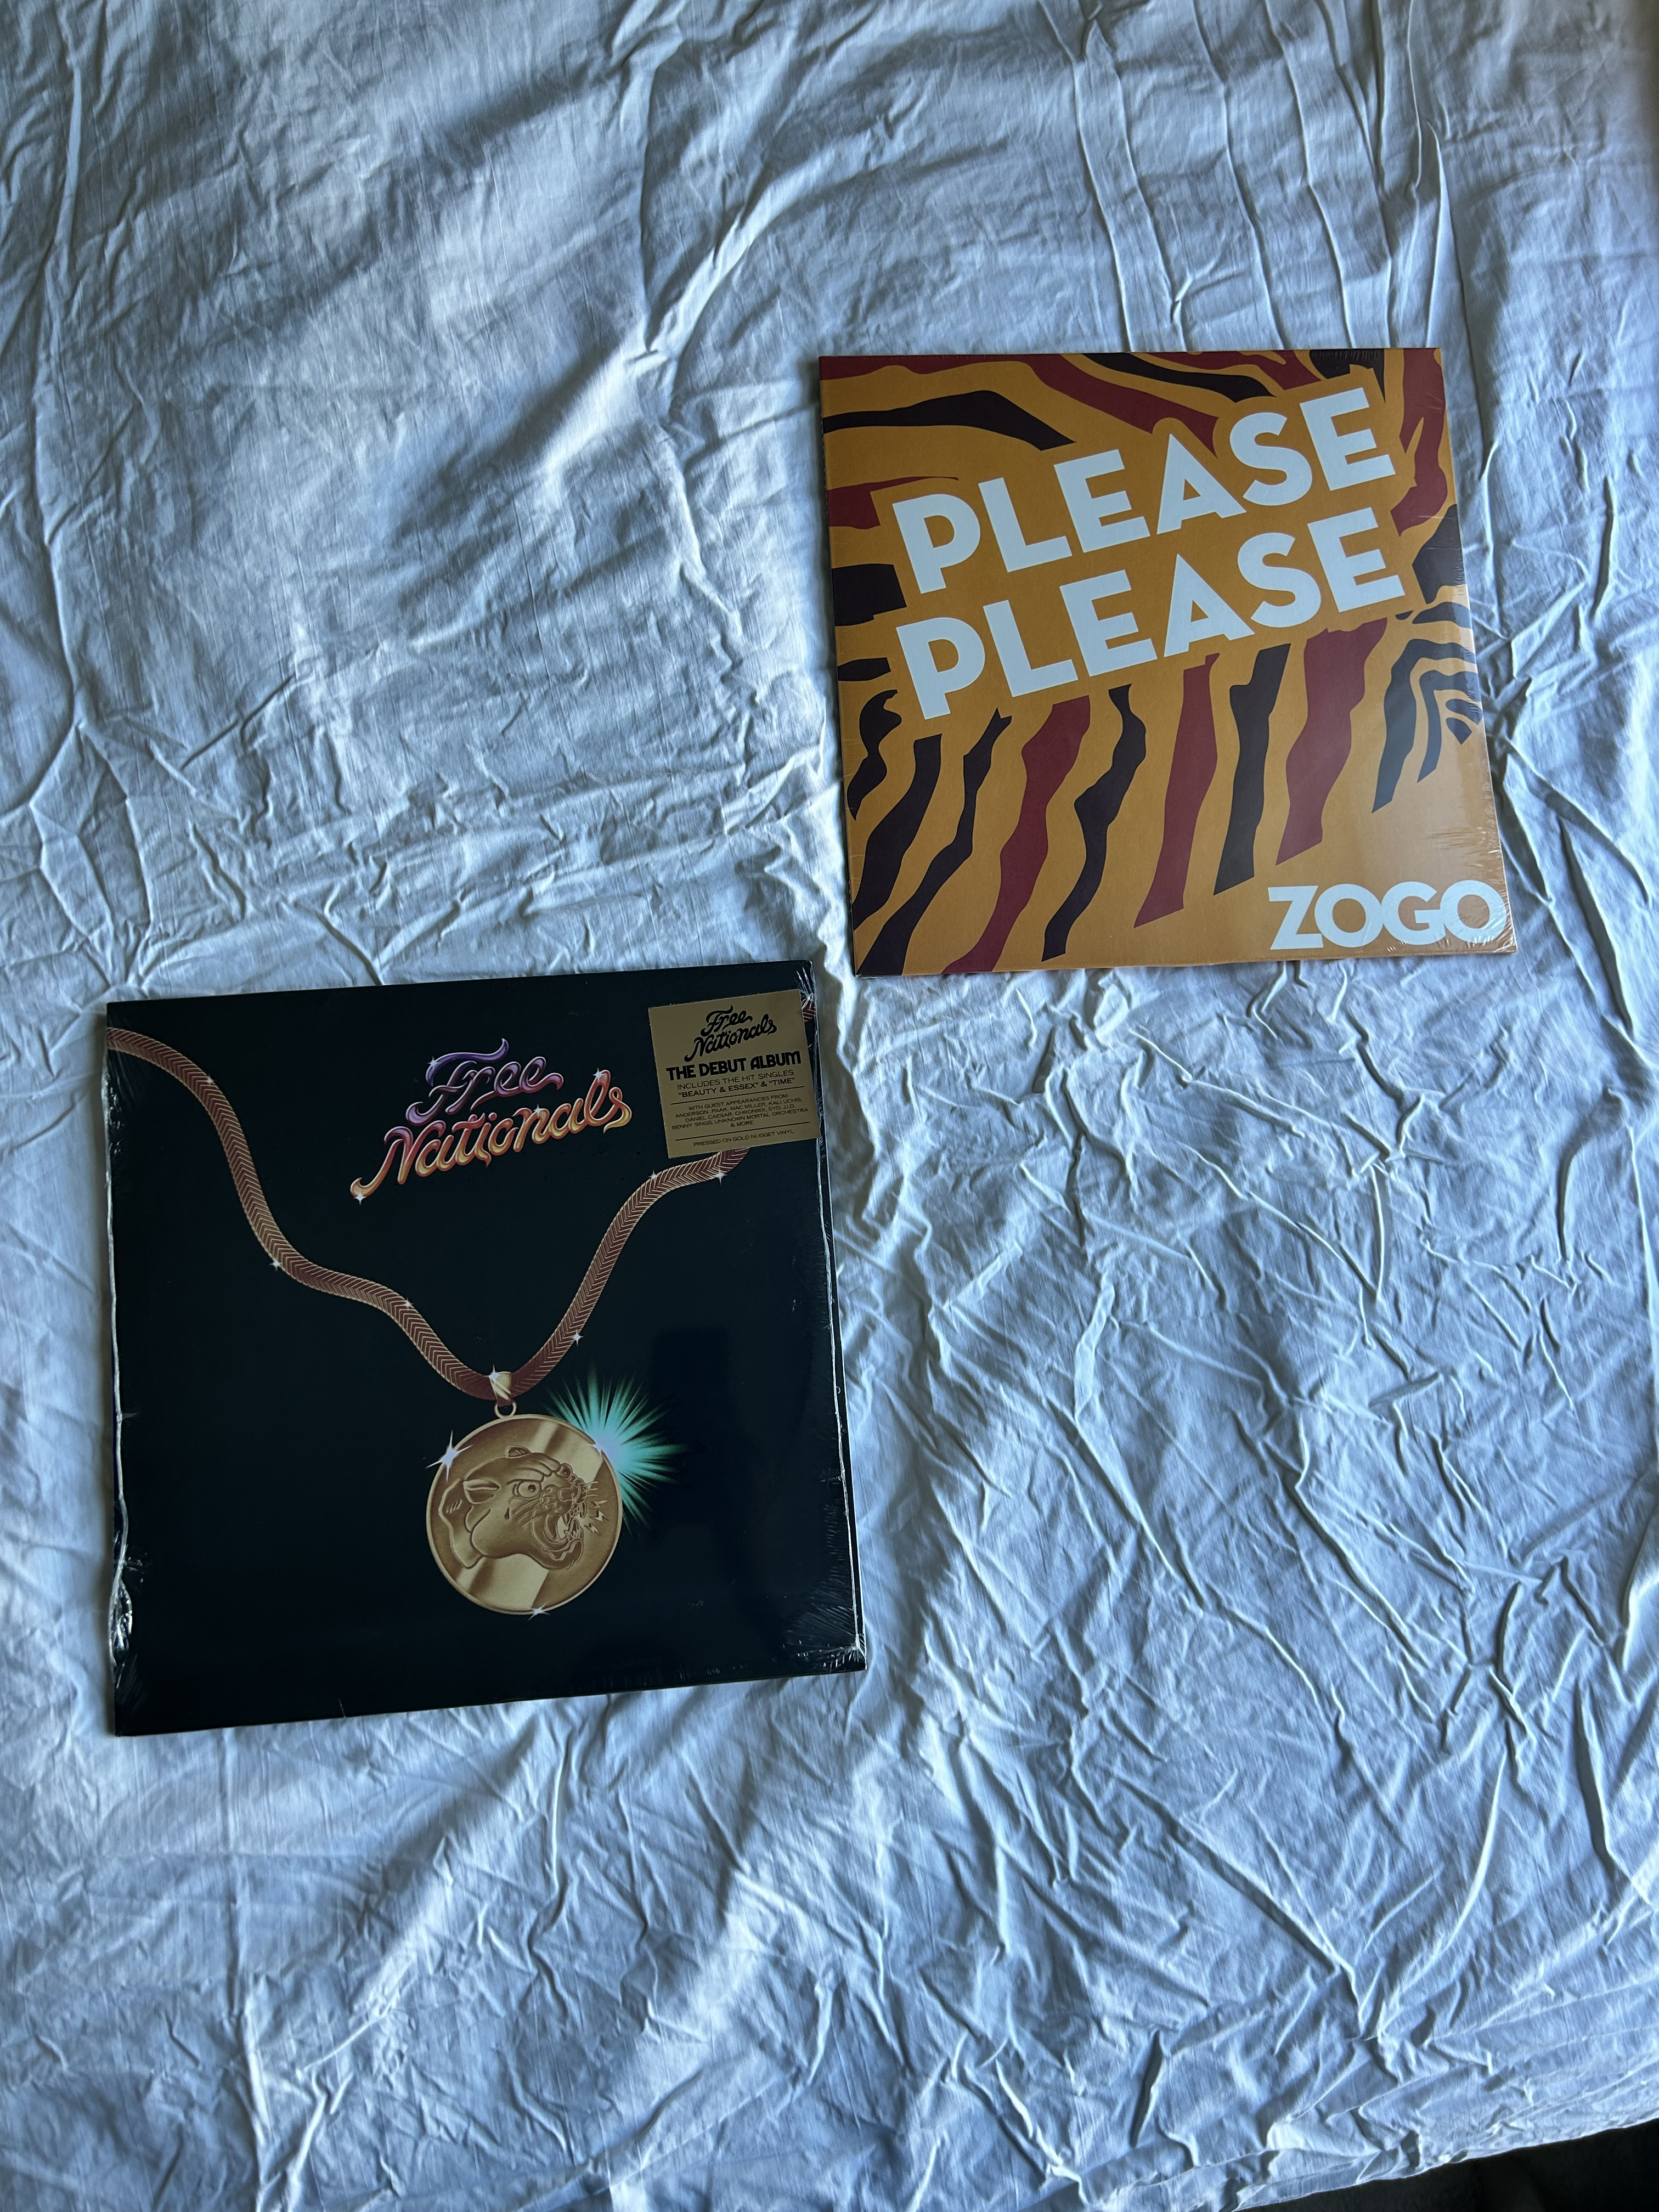free nationals_free nationals: (77, 993, 838, 1730)
zogo_please please: (803, 357, 1497, 988)
